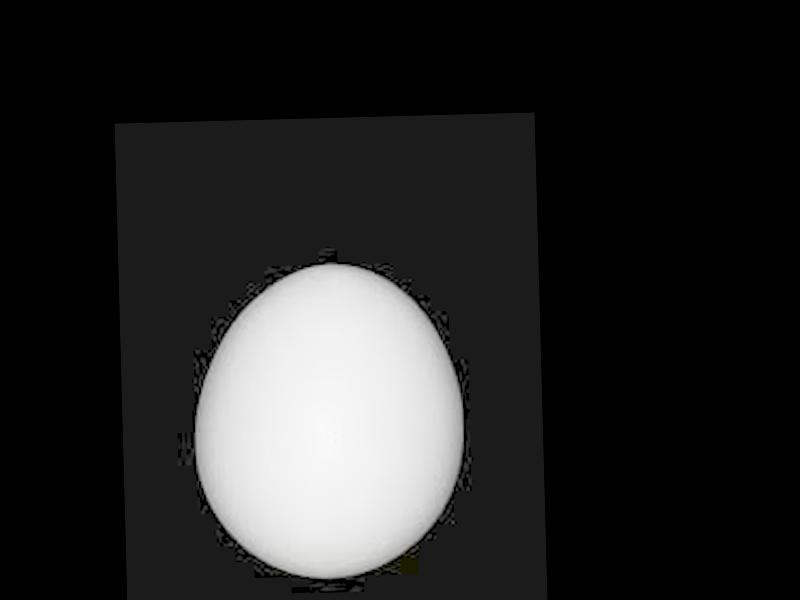Eggs: (191, 264, 467, 579)
